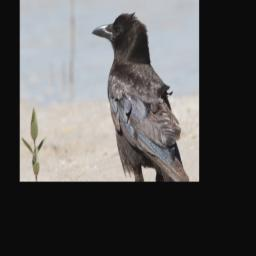Crow: (90, 11, 190, 182)
